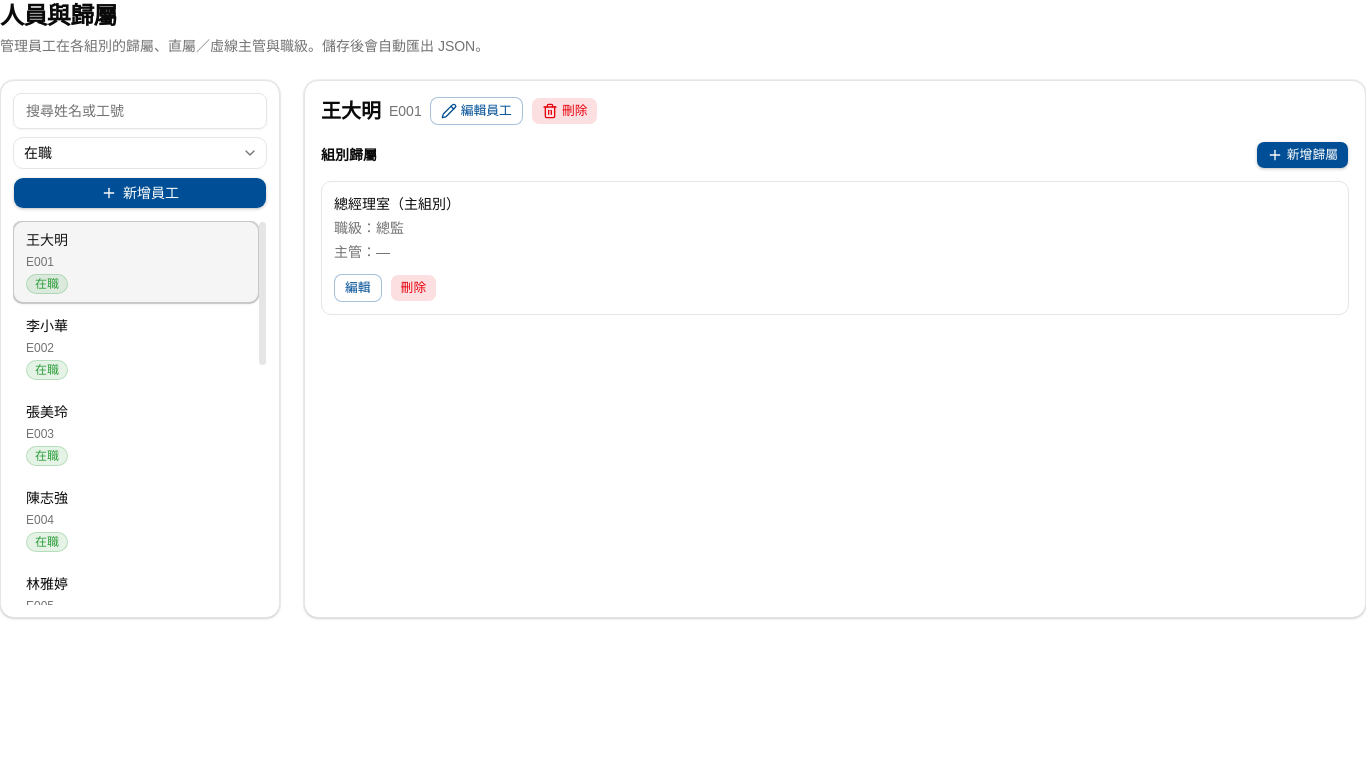
Test: PeoplePage 人員與歸屬 › 回歸：編輯員工帶入所選員工資料、新增員工為空白表單
The width and height of the screenshot is (1366, 768).
編輯員工 → 應以目前選取員工資料預填（修正前會因表單重用而錯亂）
Click the button "編輯員工" at point(476, 111), box [430,97,523,125]
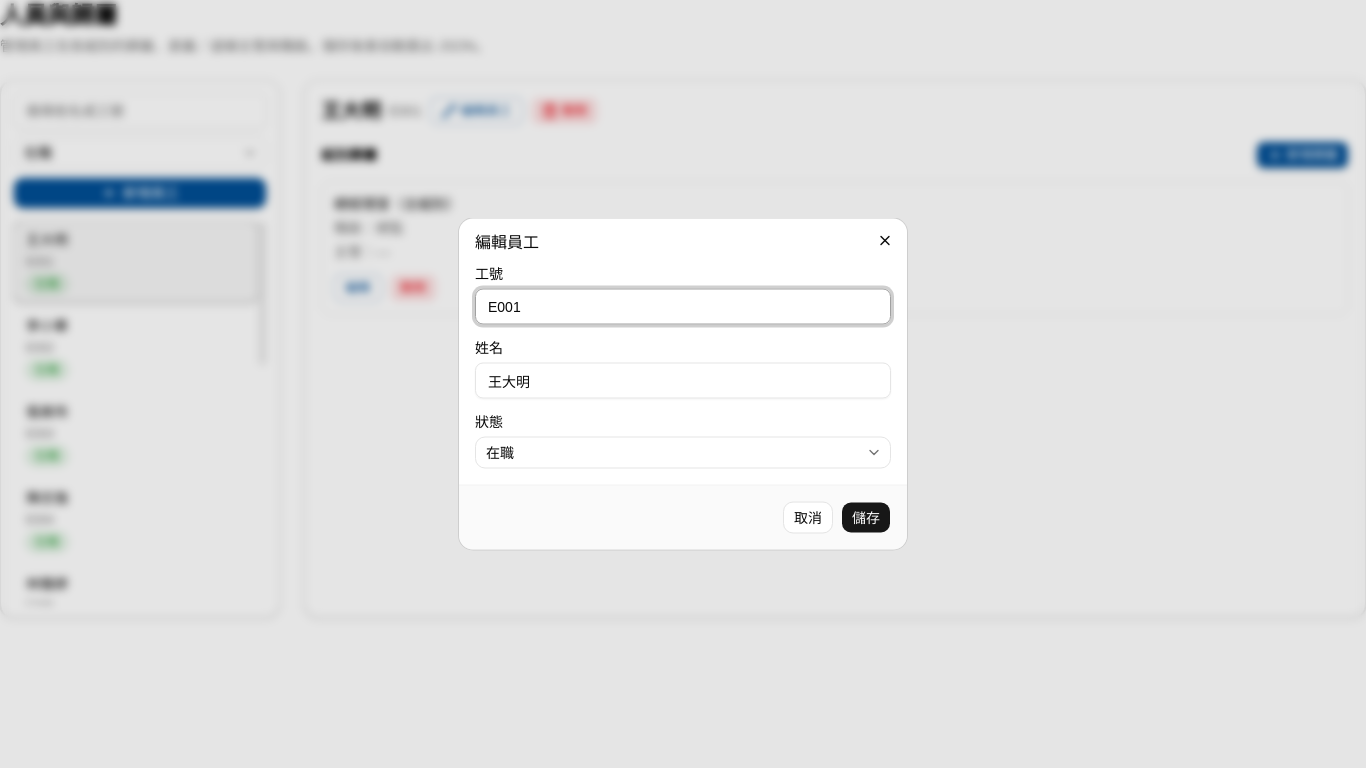
expect the dialog is shown: met, box [459,218,907,550]
expect the field labelled "工號" is not empty: met, box [475,288,891,324]
expect the heading "編輯員工" is shown: met, box [475,234,539,250]
Click the button "取消" at point(808, 518), box [783,502,833,534]
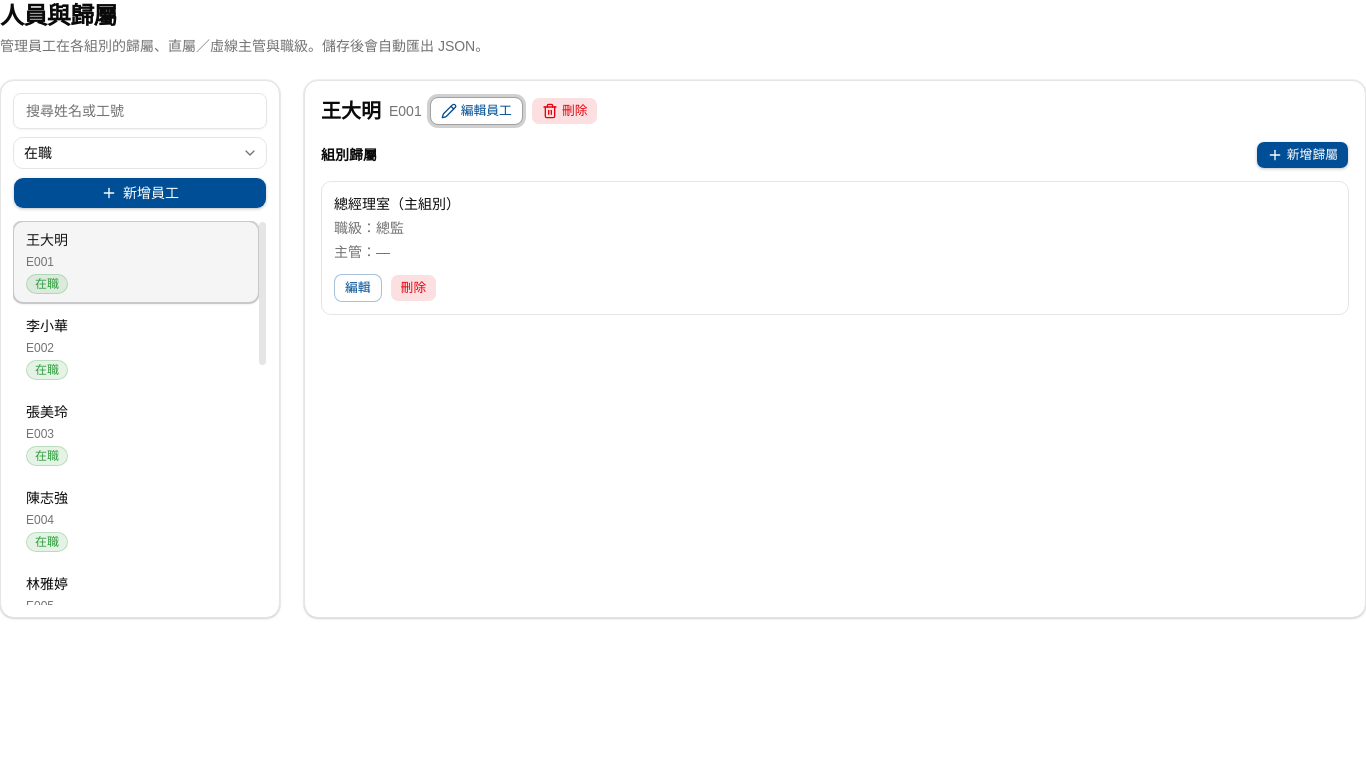
新增員工 → 應為空白表單（修正前會誤帶選取員工且 isNew）
Click the button "新增員工" at point(140, 193), box [13,177,267,209]
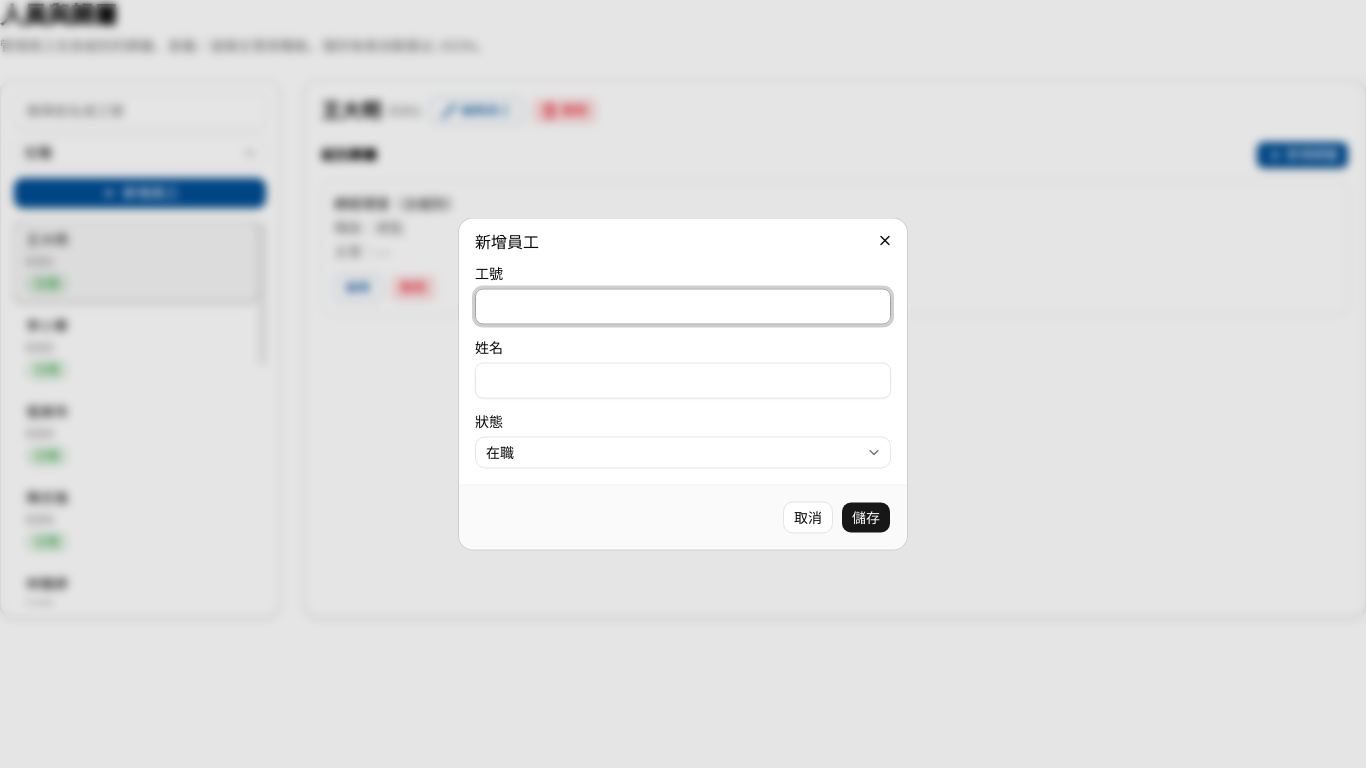
expect the dialog is shown: met, box [459,218,907,550]
expect the heading "新增員工" is shown: met, box [475,234,539,250]
expect the field labelled "工號" is empty: met, box [475,288,891,324]
